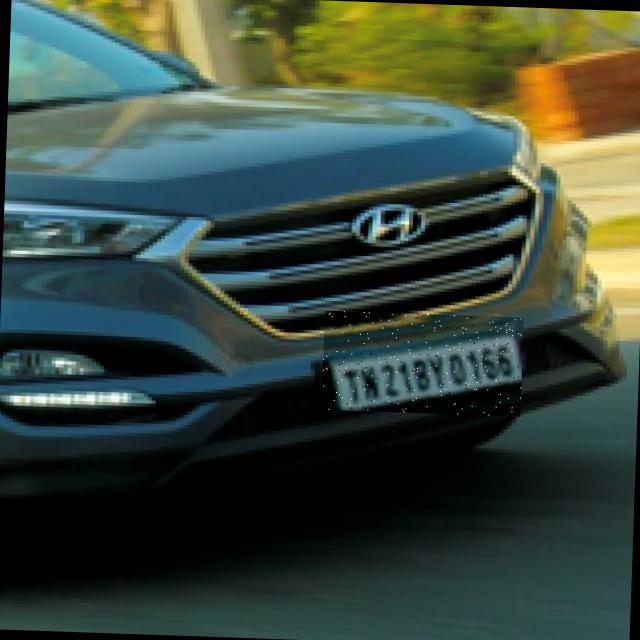Plate: (322, 311, 524, 417)
